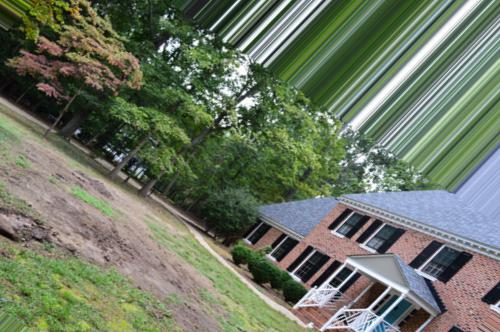patch: (103, 219, 147, 277), (27, 202, 83, 242), (166, 252, 204, 309), (88, 186, 141, 214), (28, 156, 68, 186), (143, 284, 163, 300), (10, 168, 23, 190), (148, 205, 158, 218)
